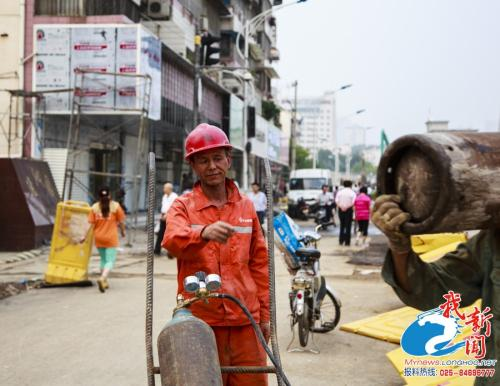gloves: (371, 194, 412, 253)
hard-hat: (184, 123, 232, 161)
person: (371, 128, 500, 385), (160, 121, 271, 386), (78, 185, 127, 292)
ppe-suit: (160, 177, 272, 386)
